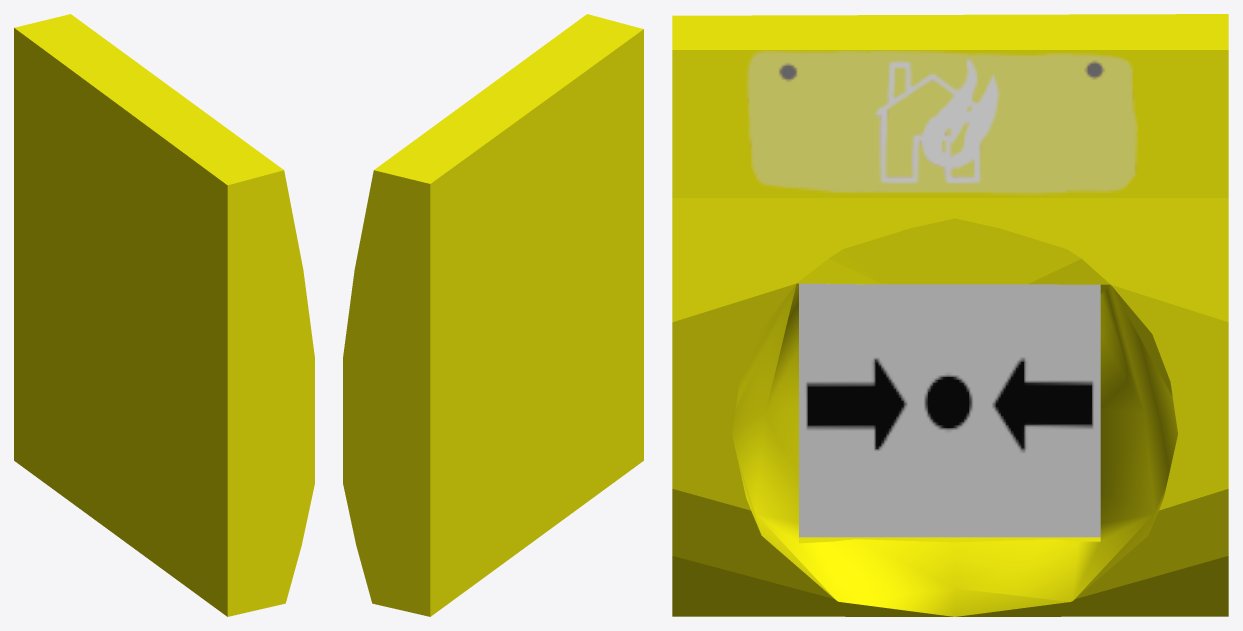
The model's file is FireAlarmButtonYellow.fbx.
3 views of the same model, side by side, from view 1: azimuth 30°, elevation 25°; view 2: azimuth 150°, elevation 25°; view 3: azimuth 270°, elevation 25° (orthographic). The views are drawn at different scales.
Visible parts, largest first — view 1: FireAlarmYellow; view 2: FireAlarmYellow; view 3: FireAlarmYellow.
Part boxes in pixels (box(x1,y1,x2,y2)): FireAlarmYellow: box(14, 14, 314, 616); FireAlarmYellow: box(343, 14, 643, 616); FireAlarmYellow: box(672, 14, 1228, 616).
Size of the model in its own units: 1.16 by 5.12 by 4.56.
